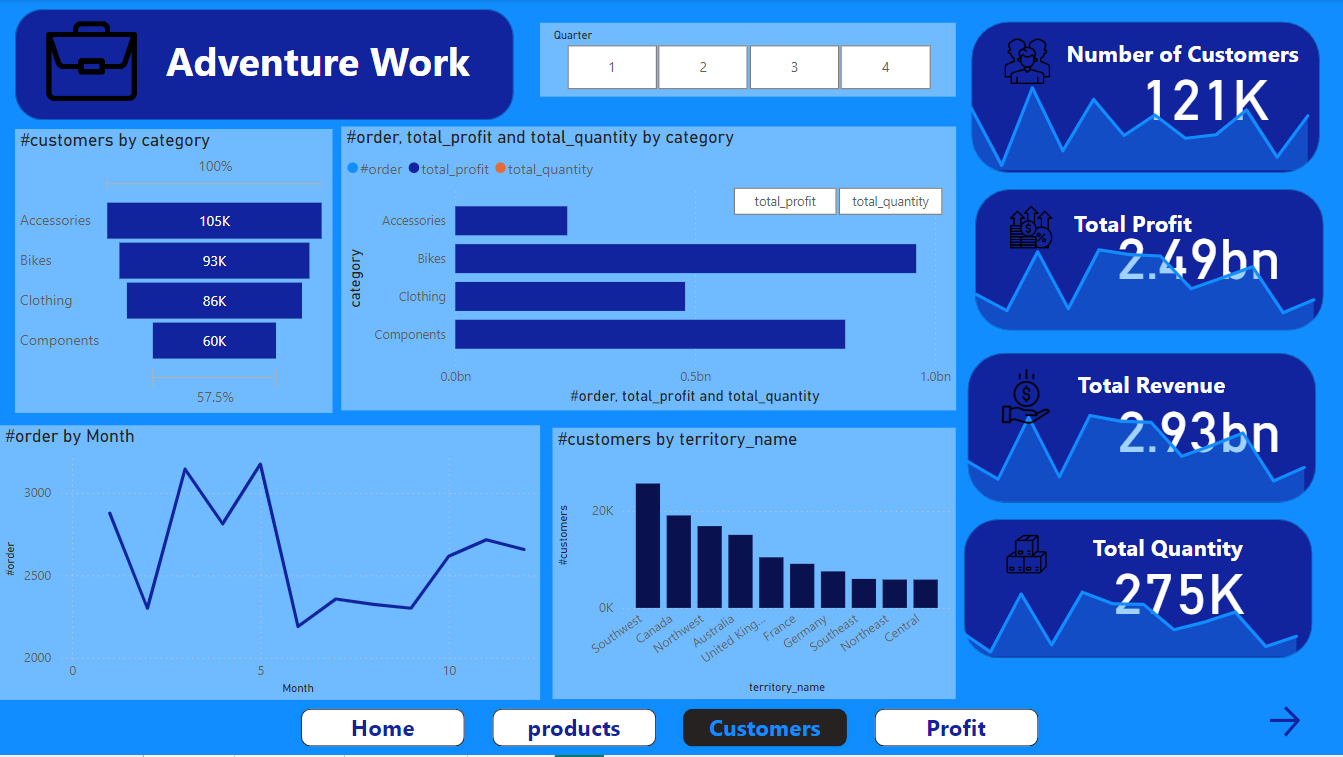

The page's visual inventory and layout, read from the dashboard file:
{"tool":"powerbi","page":{"name":"Customers","canvas":[1280,720],"ordinal":2},"visuals":[{"type":"pageNavigator","box":[278.6,667.9,721.8,52.1],"z":0},{"type":"actionButton","box":[1203.8,667.5,38.8,40],"z":1000},{"type":"shape","box":[14.3,9.5,475,106],"z":2000,"group":"g5"},{"type":"group","id":"g1","title":"Group 2","box":[877.1,337.1,380,148.6],"z":2000},{"type":"shape","box":[924.9,21.4,332.1,144.3],"z":3000,"group":"g6"},{"type":"group","id":"g2","title":"Group 5","box":[885.7,181.4,380,141.4],"z":3000},{"type":"textbox","box":[110.7,28.5,341.7,70.2],"z":4000,"group":"g5"},{"type":"group","id":"g3","title":"Group 8","box":[870,495.7,380,135.7],"z":4000},{"type":"image","box":[39.3,9.5,96.4,98.8],"z":5000,"group":"g5"},{"type":"group","id":"g4","title":"Group 7","box":[881.4,21.4,380,147.1],"z":5000},{"type":"shape","box":[917.6,495.7,332.1,132.7],"z":5000,"group":"g3"},{"type":"group","id":"g5","title":"Group 11","box":[14.3,9.5,475,106],"z":6000},{"type":"shape","box":[928.2,181.4,332.1,134.9],"z":6000,"group":"g2"},{"type":"shape","box":[921.6,337.1,332.1,142.9],"z":6000,"group":"g1"},{"type":"funnel","fields":{"Y":["DAX Measures.#customers"],"Category":["DIMproduct.category"]},"box":[14.4,123.3,302.2,270],"z":7000},{"type":"lineChart","fields":{"Category":["DIMdate.Month"],"Y":["DAX Measures.#order"]},"box":[0,405.7,514.3,261.4],"z":8000},{"type":"barChart","fields":{"Category":["DIMproduct.category"],"Y":["DAX Measures.#order","DAX Measures.total_profit","DAX Measures.total_quantity"]},"box":[324.4,121.1,585.6,270],"z":9000},{"type":"slicer","fields":{"Values":["Parameter.Parameter"]},"box":[672.9,172.9,248.6,37.1],"z":10000},{"type":"group","id":"g6","title":"Group 6","box":[881.4,21.4,379.8,147.2],"z":11000,"group":"g4"},{"type":"slicer","fields":{"Values":["DIMdate.Quarter"]},"box":[514.3,22.9,395.7,70],"z":11000},{"type":"card","fields":{"Values":["DAX Measures.total_profit"]},"box":[1029.8,183.4,223.8,114.6],"z":11000,"group":"g2"},{"type":"areaChart","fields":{"Y":["DAX Measures.total_profit"],"Category":["DIMdate.Month"]},"box":[885.7,209.4,380.8,113.8],"z":12000,"group":"g2"},{"type":"columnChart","fields":{"Category":["DIMTerritory.territory_name"],"Y":["DAX Measures.#customers"]},"box":[525.7,408.6,384.3,258.6],"z":12000},{"type":"card","fields":{"Values":["DAX Measures.total_revenue"]},"box":[1036.3,365.2,210,80.1],"z":13000,"group":"g1"},{"type":"card","fields":{"Values":["DAX Measures.#customers"]},"box":[1046.6,29.6,202.3,118.5],"z":15000,"group":"g6"},{"type":"card","fields":{"Values":["DAX Measures.total_quantity"]},"box":[1034.8,505.4,176.2,110],"z":17000,"group":"g3"},{"type":"textbox","box":[1010.8,32.4,250.8,38.5],"z":17001,"group":"g4"},{"type":"areaChart","fields":{"Y":["DAX Measures.total_revenue"],"Category":["DIMdate.Month"]},"box":[877.1,381.4,380,104.3],"z":23000,"group":"g1"},{"type":"textbox","box":[1020.7,347.9,189.2,43.8],"z":24000,"group":"g1"},{"type":"image","box":[939.7,32.4,78.6,54.8],"z":24750,"group":"g6"},{"type":"image","box":[942.5,192,78.6,51.3],"z":24937,"group":"g2"},{"type":"image","box":[928.4,347.9,96.9,61.9],"z":24984,"group":"g1"},{"type":"image","box":[936.7,505.3,82.1,48.2],"z":25500,"group":"g3"},{"type":"textbox","box":[1017.4,194.1,200,38.5],"z":27000,"group":"g2"},{"type":"areaChart","fields":{"Y":["DAX Measures.#customers"],"Category":["DIMdate.Month"]},"box":[881.4,67.1,379.8,101.6],"z":28000,"group":"g6"},{"type":"areaChart","fields":{"Y":["DAX Measures.total_quantity"],"Category":["DIMdate.Month"]},"box":[870,538.7,379.8,93.4],"z":33000,"group":"g3"},{"type":"textbox","box":[1035.6,502.9,193.1,42.3],"z":35000,"group":"g3"}]}

Visuals, with their boxes in screenshot pixels (x1, y1, x2, y2), scaled from the page's 1280x720 canvas onto the 1343x757 screenshot:
pageNavigator: {"left": 292, "top": 702, "right": 1050, "bottom": 756}
actionButton: {"left": 1263, "top": 702, "right": 1304, "bottom": 744}
shape: {"left": 15, "top": 10, "right": 513, "bottom": 121}
"Group 2" group: {"left": 920, "top": 354, "right": 1319, "bottom": 511}
shape: {"left": 970, "top": 22, "right": 1319, "bottom": 174}
"Group 5" group: {"left": 929, "top": 191, "right": 1328, "bottom": 339}
textbox: {"left": 116, "top": 30, "right": 475, "bottom": 104}
"Group 8" group: {"left": 913, "top": 521, "right": 1312, "bottom": 664}
image: {"left": 41, "top": 10, "right": 142, "bottom": 114}
"Group 7" group: {"left": 925, "top": 22, "right": 1323, "bottom": 177}
shape: {"left": 963, "top": 521, "right": 1311, "bottom": 661}
"Group 11" group: {"left": 15, "top": 10, "right": 513, "bottom": 121}
shape: {"left": 974, "top": 191, "right": 1322, "bottom": 333}
shape: {"left": 967, "top": 354, "right": 1315, "bottom": 505}
funnel - DAX Measures.#customers x DIMproduct.category: {"left": 15, "top": 130, "right": 332, "bottom": 414}
lineChart - DIMdate.Month x DAX Measures.#order: {"left": 0, "top": 427, "right": 540, "bottom": 701}
barChart - DIMproduct.category x DAX Measures.#order: {"left": 340, "top": 127, "right": 955, "bottom": 411}
slicer - Parameter.Parameter: {"left": 706, "top": 182, "right": 967, "bottom": 221}
"Group 6" group: {"left": 925, "top": 22, "right": 1323, "bottom": 177}
slicer - DIMdate.Quarter: {"left": 540, "top": 24, "right": 955, "bottom": 98}
card - DAX Measures.total_profit: {"left": 1080, "top": 193, "right": 1315, "bottom": 313}
areaChart - DAX Measures.total_profit x DIMdate.Month: {"left": 929, "top": 220, "right": 1329, "bottom": 340}
columnChart - DIMTerritory.territory_name x DAX Measures.#customers: {"left": 552, "top": 430, "right": 955, "bottom": 701}
card - DAX Measures.total_revenue: {"left": 1087, "top": 384, "right": 1308, "bottom": 468}
card - DAX Measures.#customers: {"left": 1098, "top": 31, "right": 1310, "bottom": 156}
card - DAX Measures.total_quantity: {"left": 1086, "top": 531, "right": 1271, "bottom": 647}
textbox: {"left": 1061, "top": 34, "right": 1324, "bottom": 75}
areaChart - DAX Measures.total_revenue x DIMdate.Month: {"left": 920, "top": 401, "right": 1319, "bottom": 511}
textbox: {"left": 1071, "top": 366, "right": 1269, "bottom": 412}
image: {"left": 986, "top": 34, "right": 1068, "bottom": 92}
image: {"left": 989, "top": 202, "right": 1071, "bottom": 256}
image: {"left": 974, "top": 366, "right": 1076, "bottom": 431}
image: {"left": 983, "top": 531, "right": 1069, "bottom": 582}
textbox: {"left": 1067, "top": 204, "right": 1277, "bottom": 245}
areaChart - DAX Measures.#customers x DIMdate.Month: {"left": 925, "top": 71, "right": 1323, "bottom": 177}
areaChart - DAX Measures.total_quantity x DIMdate.Month: {"left": 913, "top": 566, "right": 1311, "bottom": 665}
textbox: {"left": 1087, "top": 529, "right": 1289, "bottom": 573}
